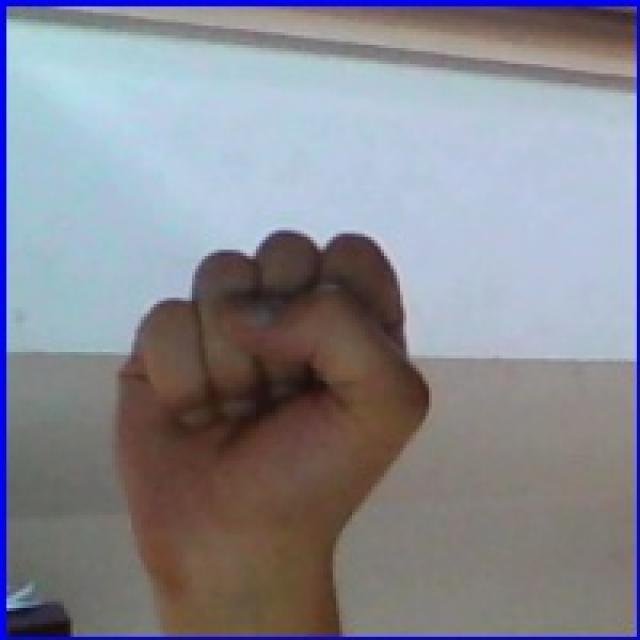Letra-S: (78, 202, 462, 584)
